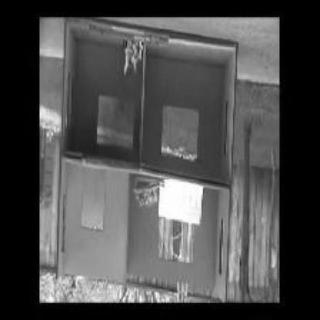Fire: (124, 39, 142, 72)
